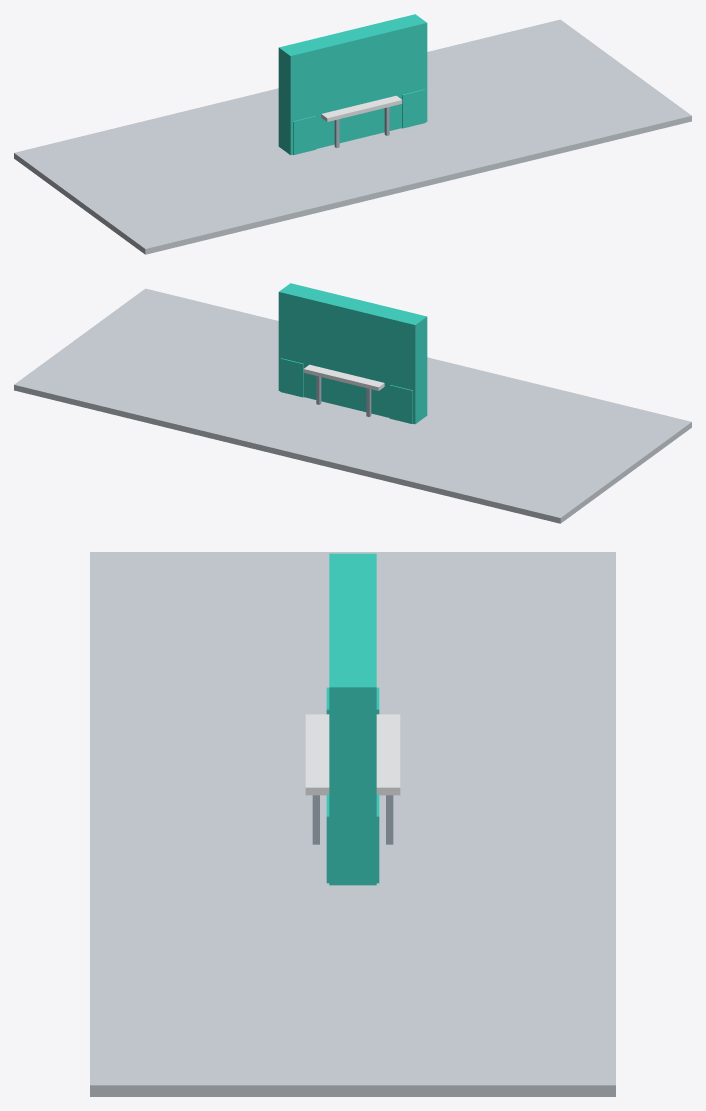
3 renders of one model, top to bottom at view 1: azimuth 30°, elevation 25°; view 2: azimuth 150°, elevation 25°; view 3: azimuth 270°, elevation 25°, orthographic. The views are drawn at different scales.
Parts seen in each view (by area): view 1: Exhibition Booth Concept; view 2: Exhibition Booth Concept; view 3: Exhibition Booth Concept.
Boxes of the visible parts, x1=… form: Exhibition Booth Concept: x1=14, y1=14, x2=691, y2=254; Exhibition Booth Concept: x1=14, y1=283, x2=691, y2=523; Exhibition Booth Concept: x1=90, y1=552, x2=615, y2=1096.
Bounding box in the file's own units: 12 × 2.2 × 5.
